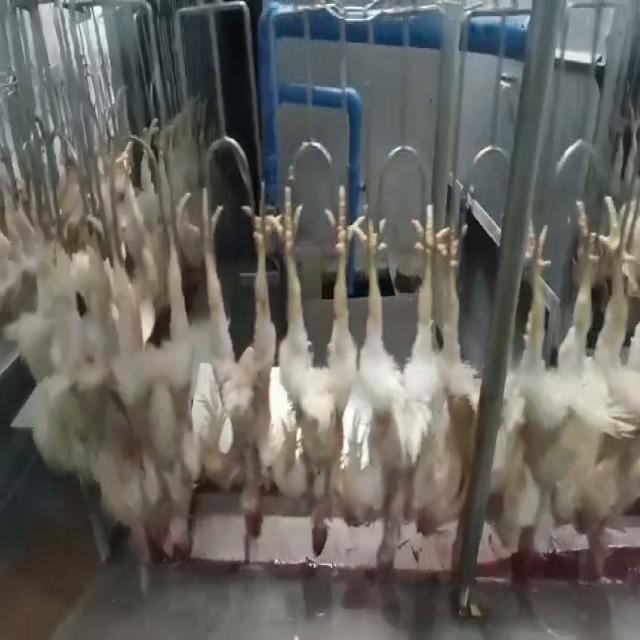chicken: (495, 198, 592, 596), (349, 202, 440, 580), (200, 182, 282, 547), (127, 185, 193, 566), (288, 186, 352, 563), (414, 210, 485, 536), (589, 207, 639, 580)
